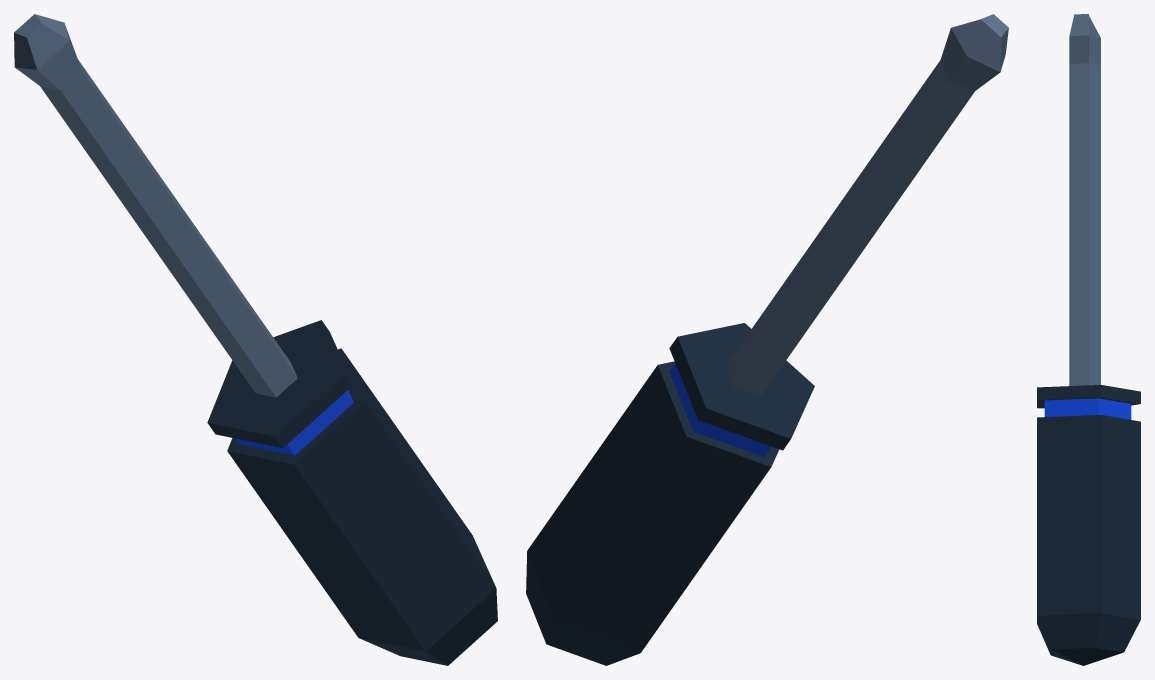
File: screwdriver.003.fbx
3 views of the same model, side by side, from view 1: azimuth 30°, elevation 25°; view 2: azimuth 150°, elevation 25°; view 3: azimuth 270°, elevation 25° (orthographic). The views are drawn at different scales.
Visible parts, largest first — view 1: screwdriver.003; view 2: screwdriver.003; view 3: screwdriver.003.
Part boxes in pixels (x1,y1,x2,y2): screwdriver.003: (14, 14, 497, 665); screwdriver.003: (526, 14, 1008, 665); screwdriver.003: (1037, 14, 1140, 665).
Bounding box in the file's own units: 65.51 × 97.63 × 17.78.
